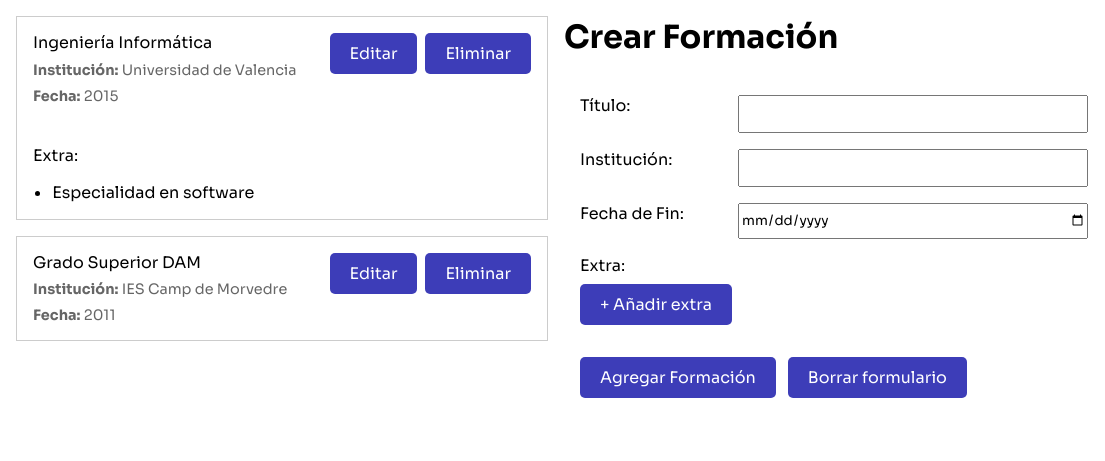
<Formacion /> › «Editar» + «Borrar formulario» limpia los campos y desacopla el id
The width and height of the screenshot is (1105, 461).
Click the button "Editar" next to "Universidad de Valencia": [374, 54] box x1=330 y1=33 x2=418 y2=74
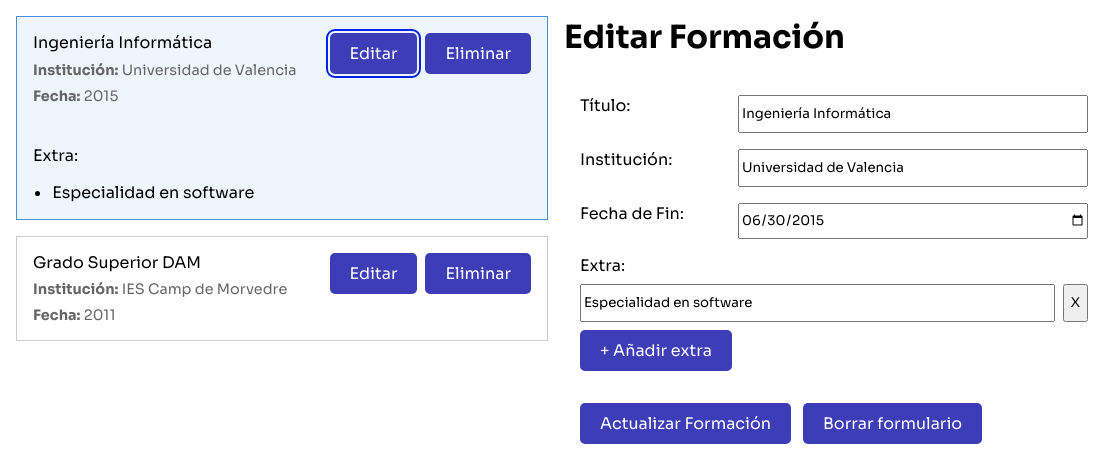
Click the button "Borrar formulario": [893, 423] box x1=803 y1=403 x2=982 y2=444
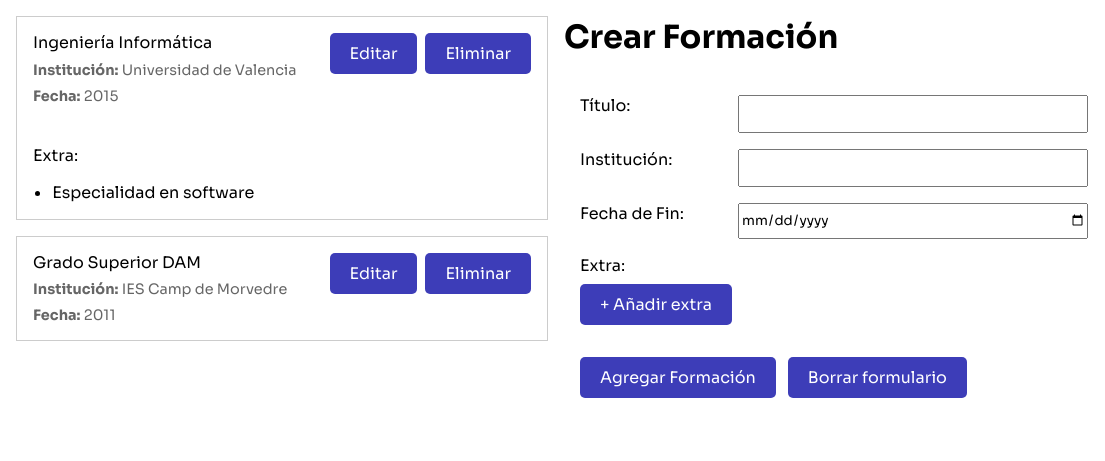
Result: the field labelled "Título:" is empty at x1=738 y1=95 x2=1088 y2=133
Result: the field labelled "Institución:" is empty at x1=738 y1=149 x2=1088 y2=187
Result: the date field labelled "Fecha de Fin:" is empty at x1=738 y1=203 x2=1088 y2=239
